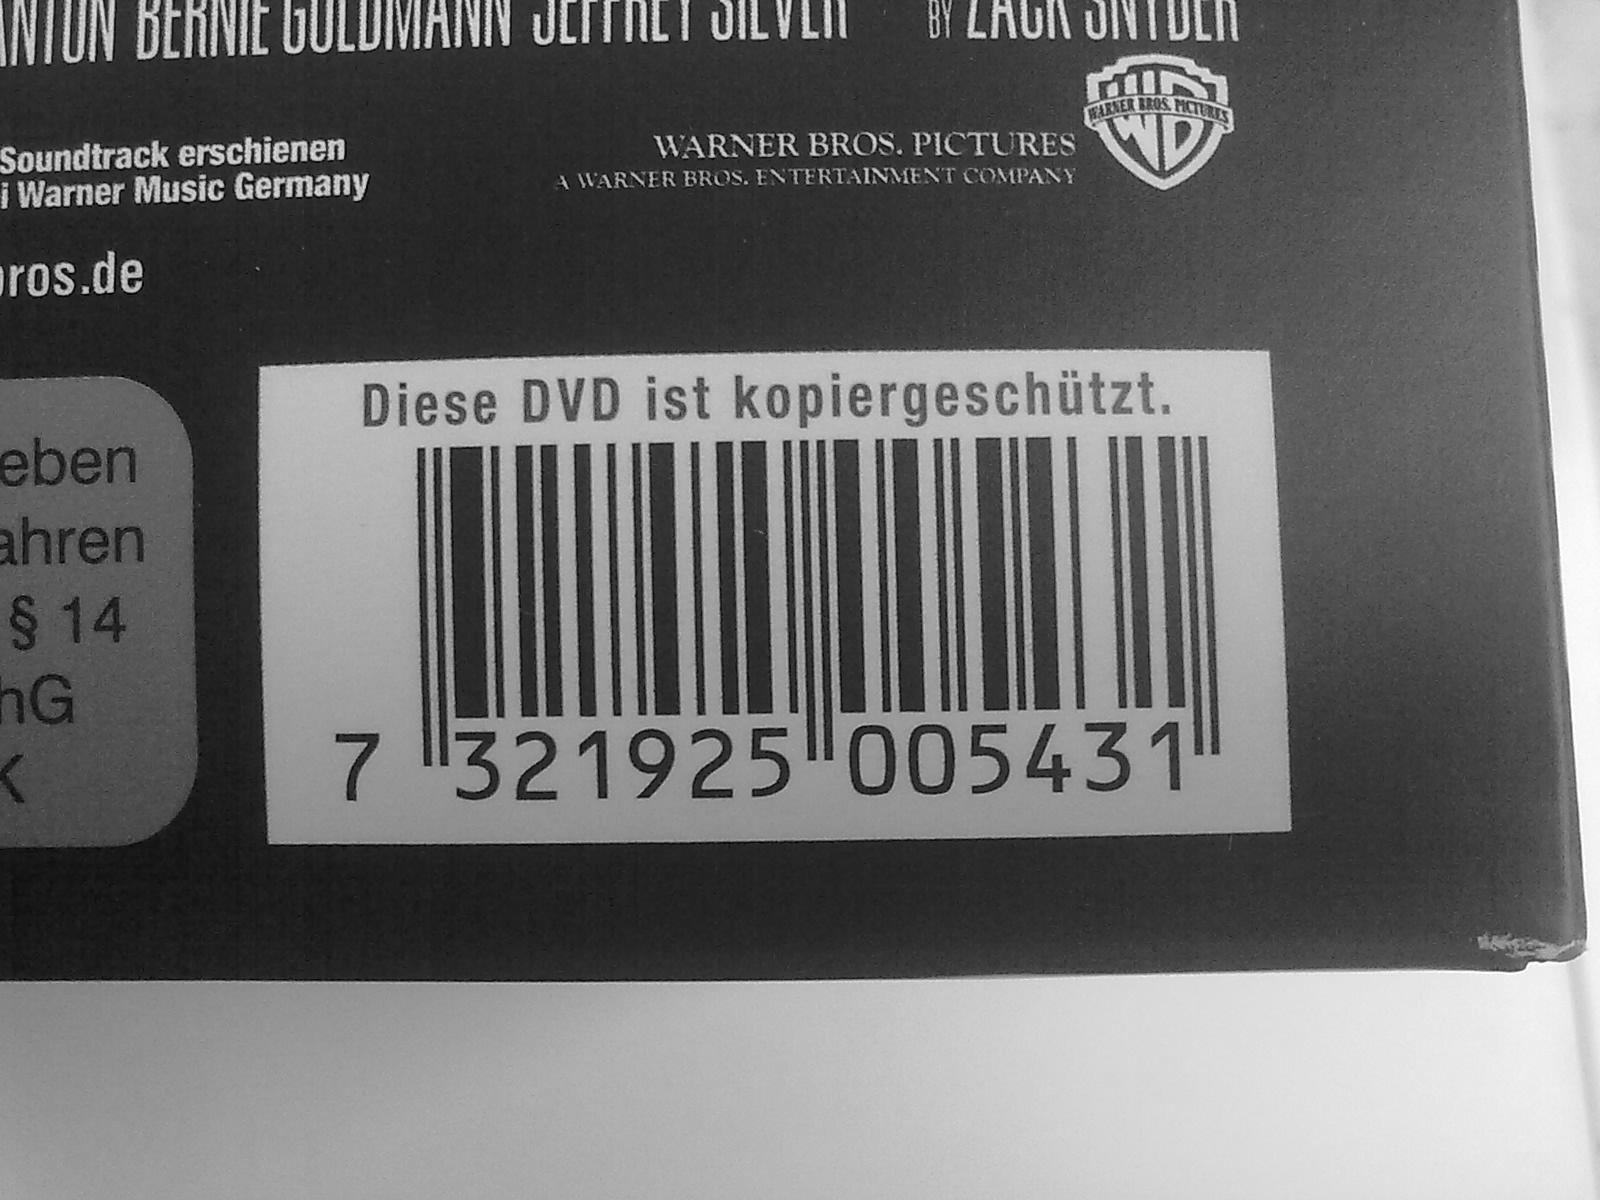Barcode: (289, 379, 1255, 812)
